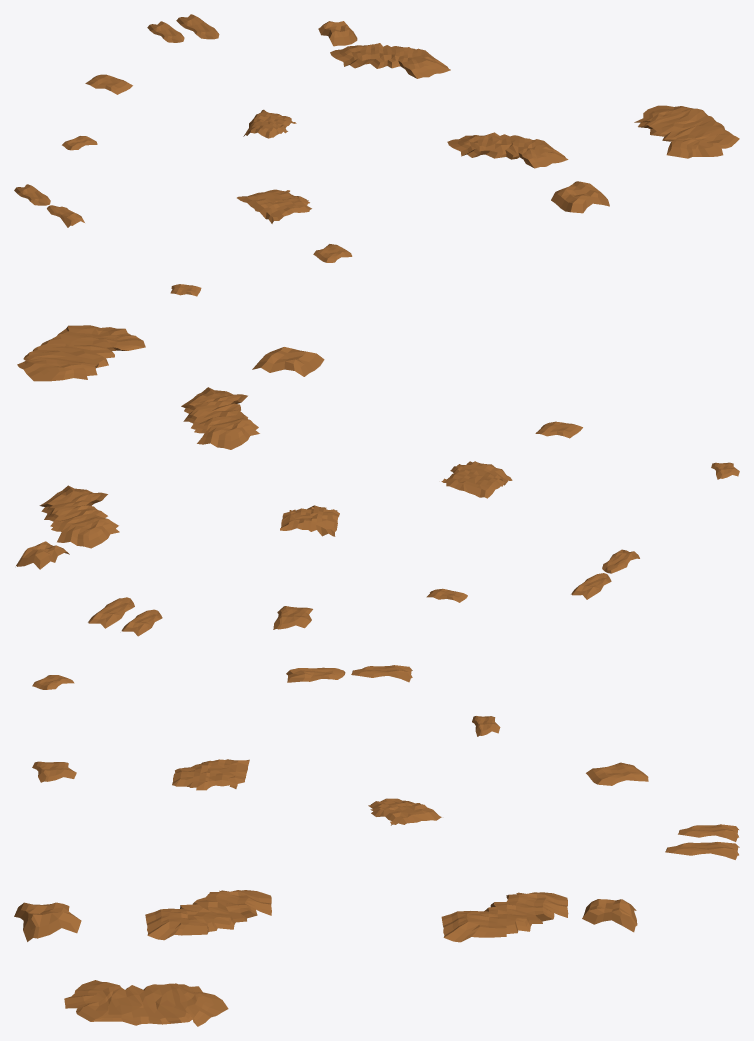
File: Sand_dunes.FBX
3 renders of one model, top to bottom at view 1: azimuth 30°, elevation 25°; view 2: azimuth 150°, elevation 25°; view 3: azimuth 270°, elevation 25°, orthographic. The views are drawn at different scales.
Parts seen in each view (by area): view 1: Sand_dunes; view 2: Sand_dunes; view 3: Sand_dunes.
Part boxes in pixels (<box>): Sand_dunes: <box>14,14,739,296</box>; Sand_dunes: <box>16,325,739,636</box>; Sand_dunes: <box>14,665,739,1026</box>.
Size of the model in its own units: 12410 by 411 by 10629.
